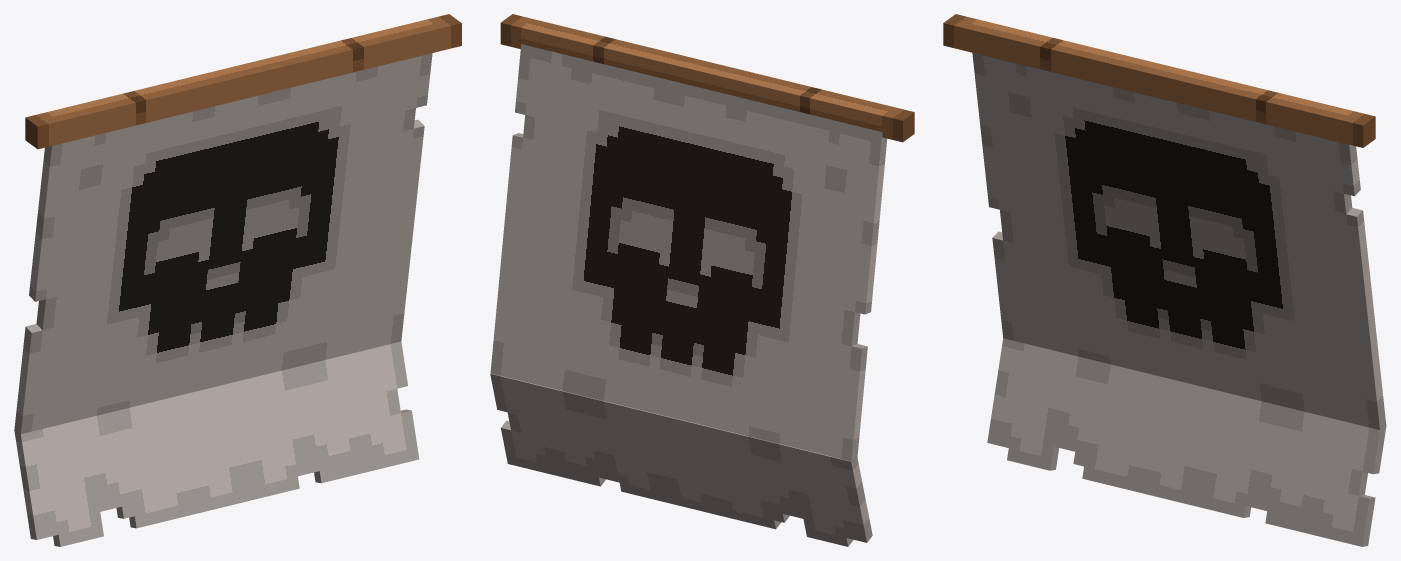
The model's file is item_cottonsail.gltf.
3 views of the same model, side by side, from view 1: azimuth 30°, elevation 25°; view 2: azimuth 150°, elevation 25°; view 3: azimuth 330°, elevation 25° (orthographic). The views are drawn at different scales.
Visible parts, largest first — view 1: Skull-Local, Bottom-Local, Cottonsail-Local; view 2: Skull-Local, Bottom-Local, Cottonsail-Local; view 3: Skull-Local, Bottom-Local, Cottonsail-Local.
Boxes of the visible parts, left/top/right/bottom form: Skull-Local: left=14, top=53, right=432, bottom=436; Bottom-Local: left=14, top=341, right=419, bottom=546; Cottonsail-Local: left=25, top=14, right=461, bottom=149; Skull-Local: left=490, top=44, right=887, bottom=462; Bottom-Local: left=490, top=373, right=872, bottom=546; Cottonsail-Local: left=500, top=14, right=914, bottom=142; Skull-Local: left=972, top=52, right=1386, bottom=431; Bottom-Local: left=987, top=338, right=1386, bottom=546; Cottonsail-Local: left=943, top=14, right=1375, bottom=147.
Size of the model in its own units: 39 by 39.5 by 7.22.
3 materials, 3 textured.
